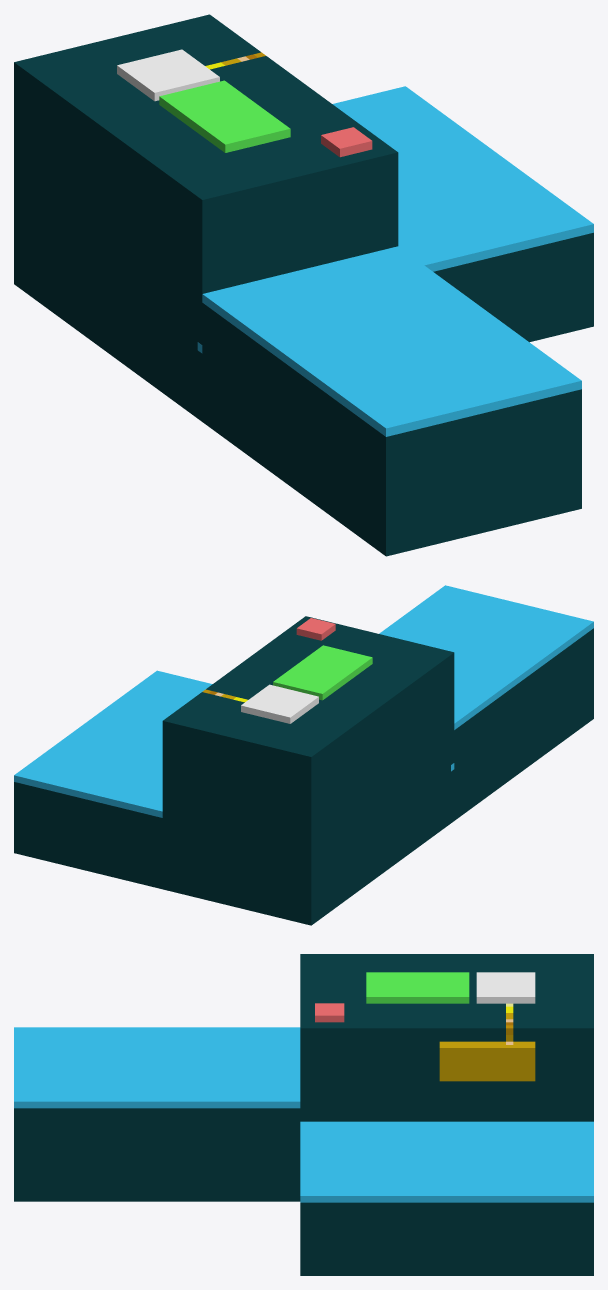
File: menu2.obj
The picture shows the model from 3 angles, top to bottom: view 1: azimuth 30°, elevation 25°; view 2: azimuth 150°, elevation 25°; view 3: azimuth 270°, elevation 25°; orthographic projection. The views are drawn at different scales.
Bounding box in the file's own units: 48 × 27 × 79.
Materials: 1 (1 with a texture image).
